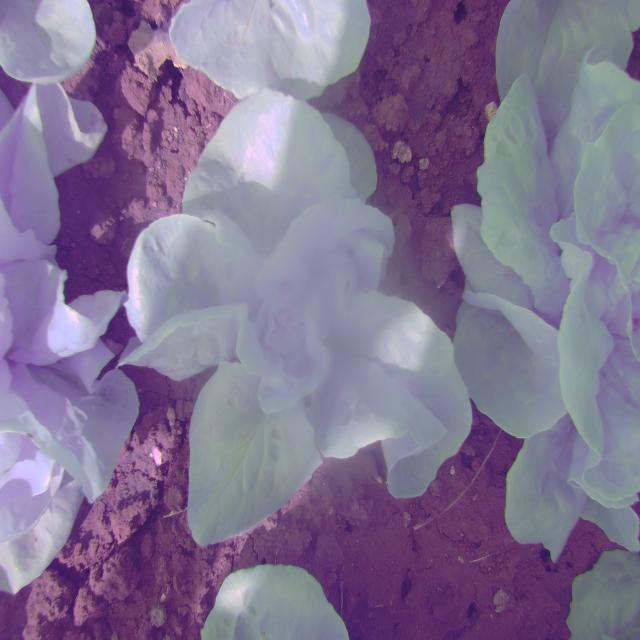vege: (121, 94, 476, 538)
